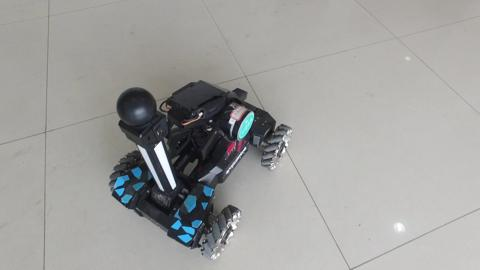chariot: (80, 71, 277, 238)
